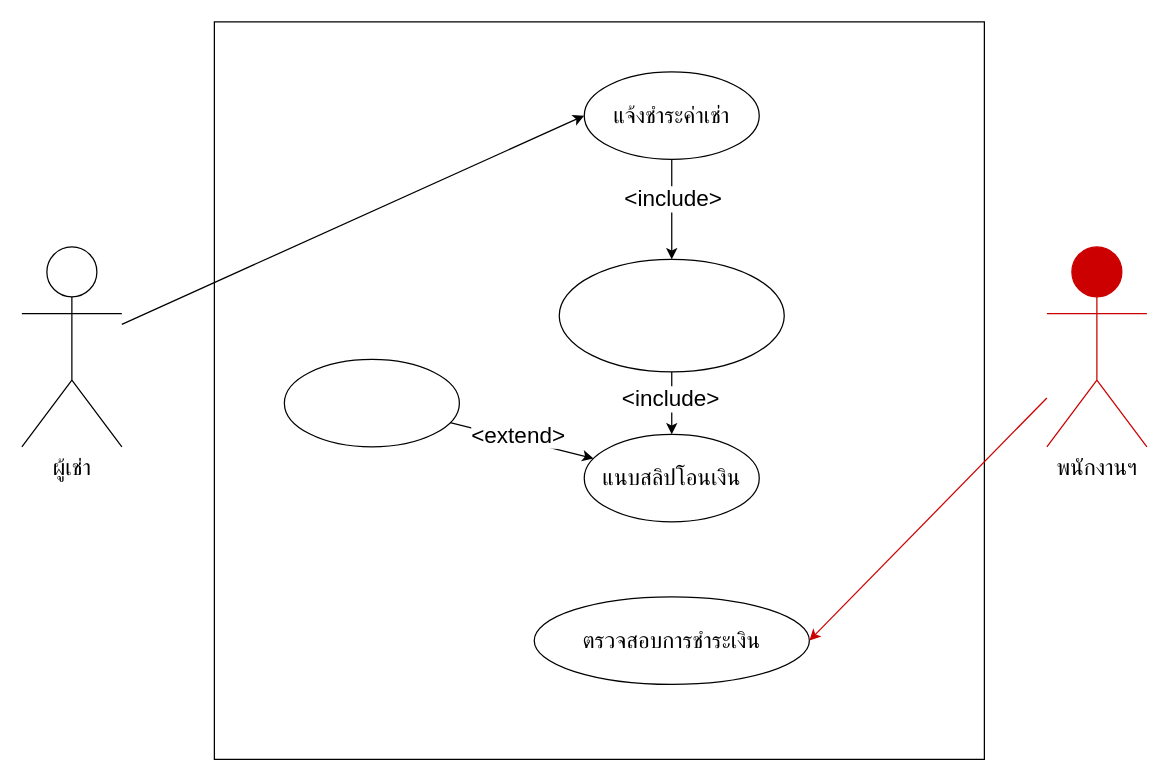
Image size: 1169x781. Some labels were removed from this diagram. The centre of each missing label's shape, as x and y in pixels:
"บันทึกช่วยจำ" goes at point 371,402.
"เลือกรายการค้างชำระ" goes at point 671,315.
